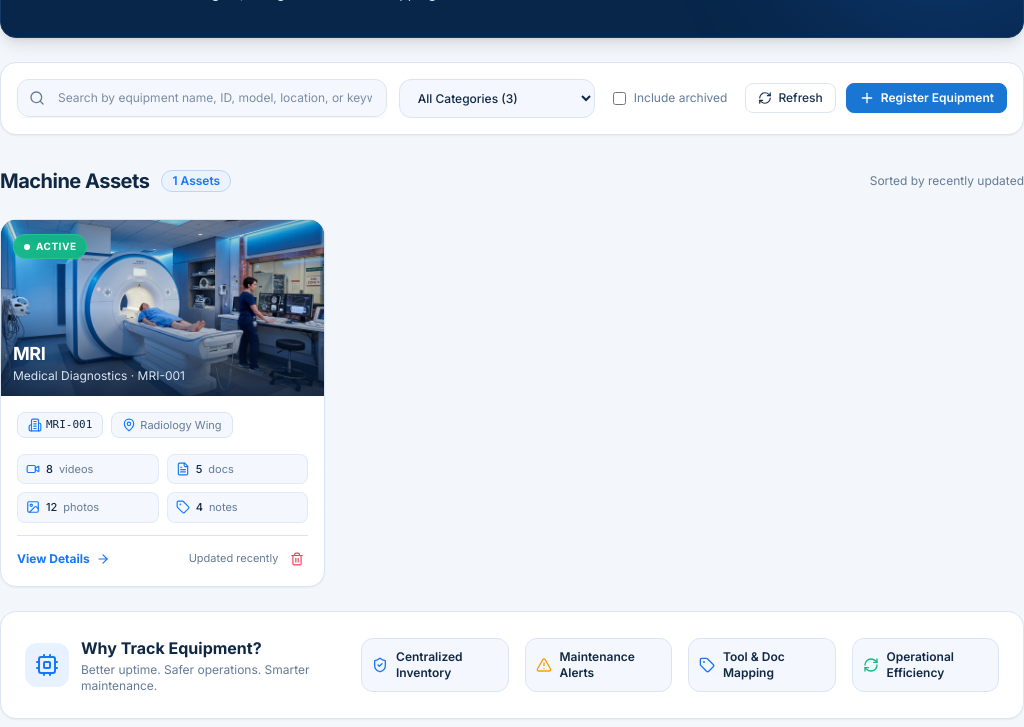
Machine deletion flow › sends the machine database ID and removes it from the list only after success
(page scrolled)
Expected: the heading "MRI" is shown, x1=13 y1=343 x2=45 y2=364
Click the button named "Delete". click: coordinates (297, 558)
box: x1=286 y1=548 x2=308 y2=570
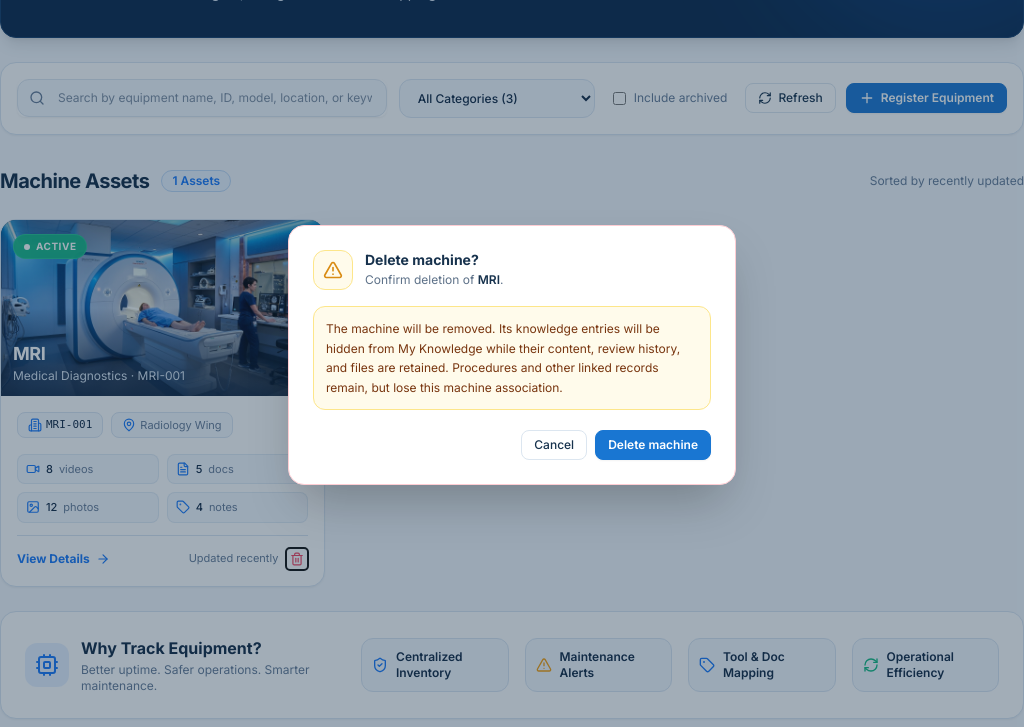
Now the dialog shows "MRI", box x1=478 y1=272 x2=500 y2=287
Click the button "Delete machine". click: coordinates (653, 445)
box: x1=595 y1=430 x2=711 y2=460
(page scrolled)
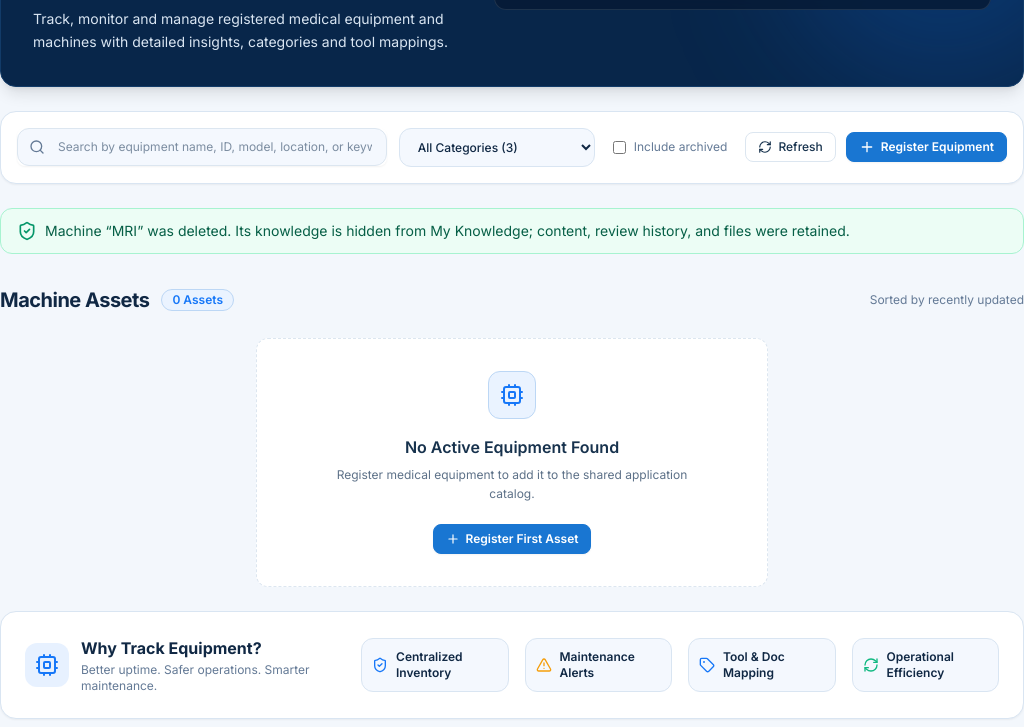
Now the message shows "Machine “MRI” was deleted. Its knowledge is hidden from My Knowledge; content, review history, and files were retained.", box x1=45 y1=222 x2=850 y2=238
